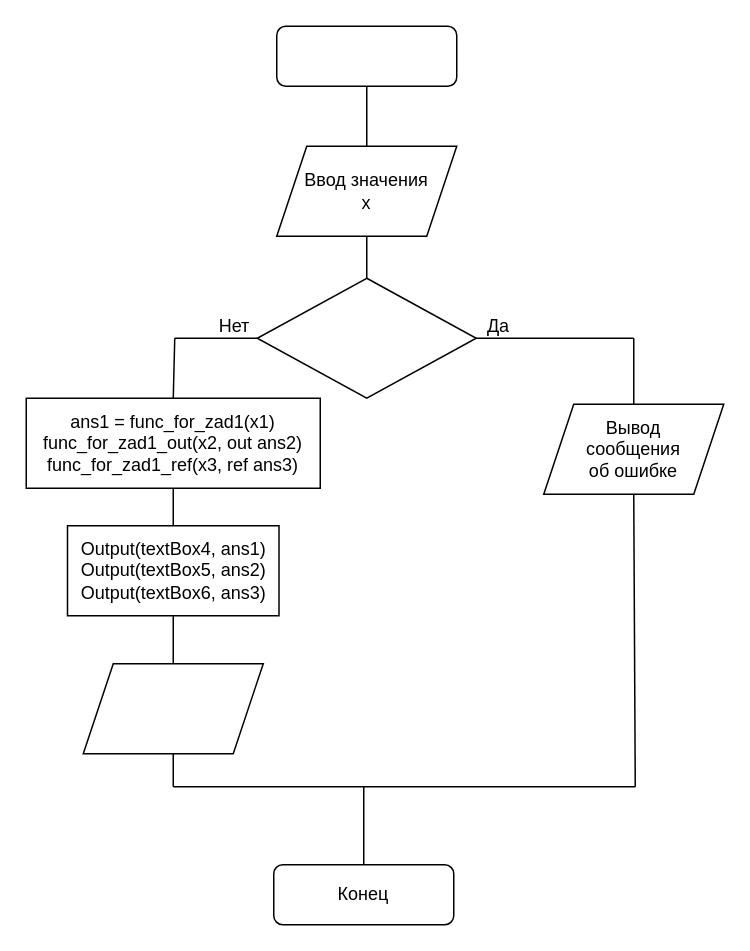
Image size: 750x951. Some labels were removed from this diagram. The shapes that lost their labels are listed below. From the top down, each one's centre as x and y in pixels, then its label:
At point 366,55: "Button".
At point 366,337: "Ошибка функции вычисления?".
At point 172,708: "Вывод результата в файл".
